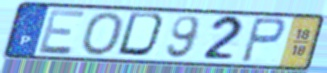2: (198, 14, 249, 63)
9: (165, 15, 202, 60)
D: (114, 11, 170, 60)
E: (37, 8, 89, 56)
O: (79, 10, 126, 57)
P: (238, 16, 288, 65)
